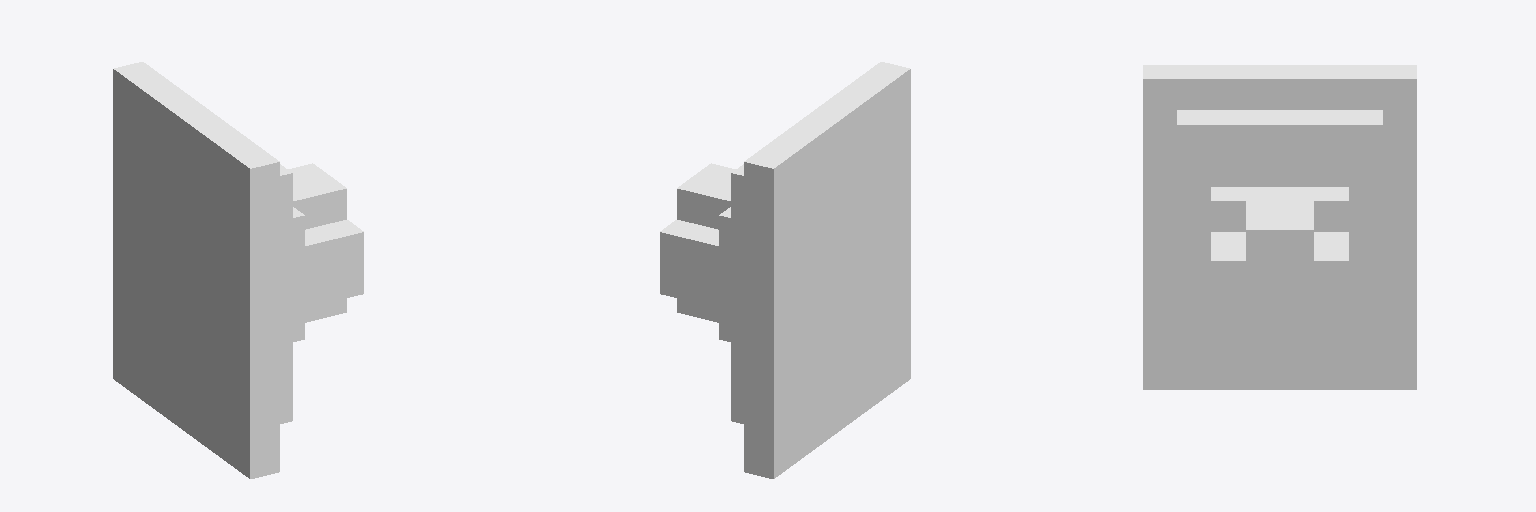
Rendered from lock.obj.
The picture shows the model from 3 angles: view 1: azimuth 30°, elevation 25°; view 2: azimuth 150°, elevation 25°; view 3: azimuth 270°, elevation 25°; orthographic projection.
Visible parts, largest first — view 1: object 1; view 2: object 1; view 3: object 1.
Boxes of the visible parts, box(x1,y1,x2,y2) form: object 1: box(113, 62, 363, 478); object 1: box(660, 62, 910, 478); object 1: box(1143, 65, 1416, 389).
Size of the model in its own units: 0.5 by 1 by 0.8.